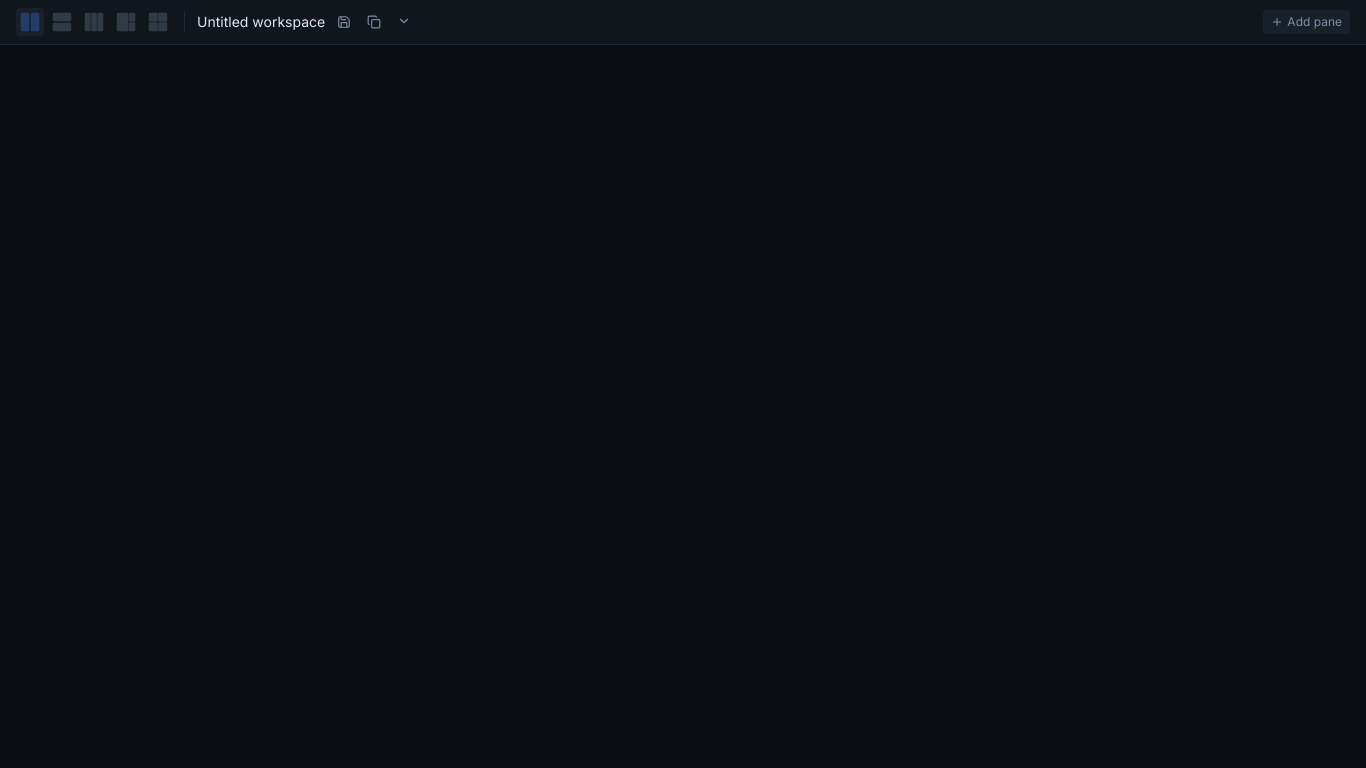
Test: MultiviewToolbar › opens save prompt when save is clicked on unnamed workspace
Click the button titled "Save workspace". click: (344, 22)
box: [333, 11, 355, 33]
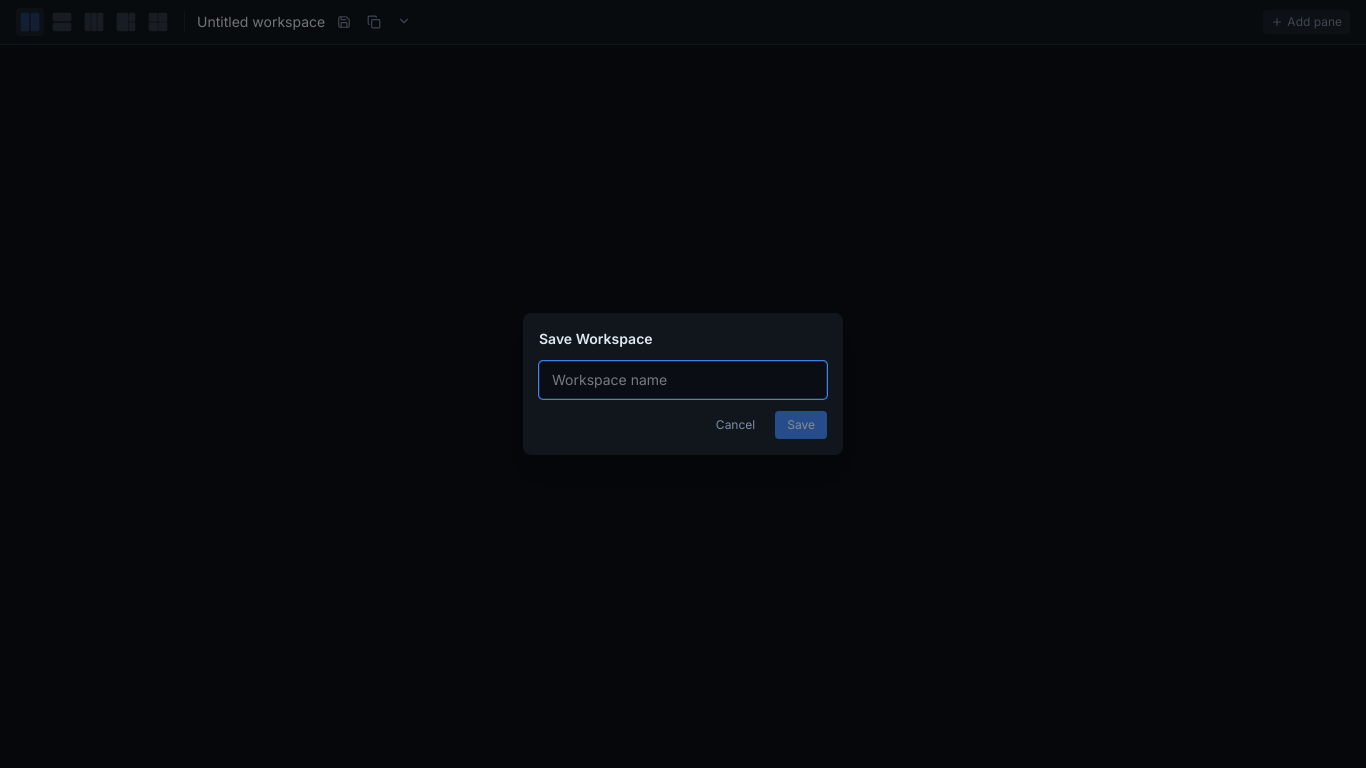
Result: the heading "Save Workspace" is shown at [539, 330, 653, 347]
Result: the field with placeholder "Workspace name" is shown at [539, 361, 827, 399]
